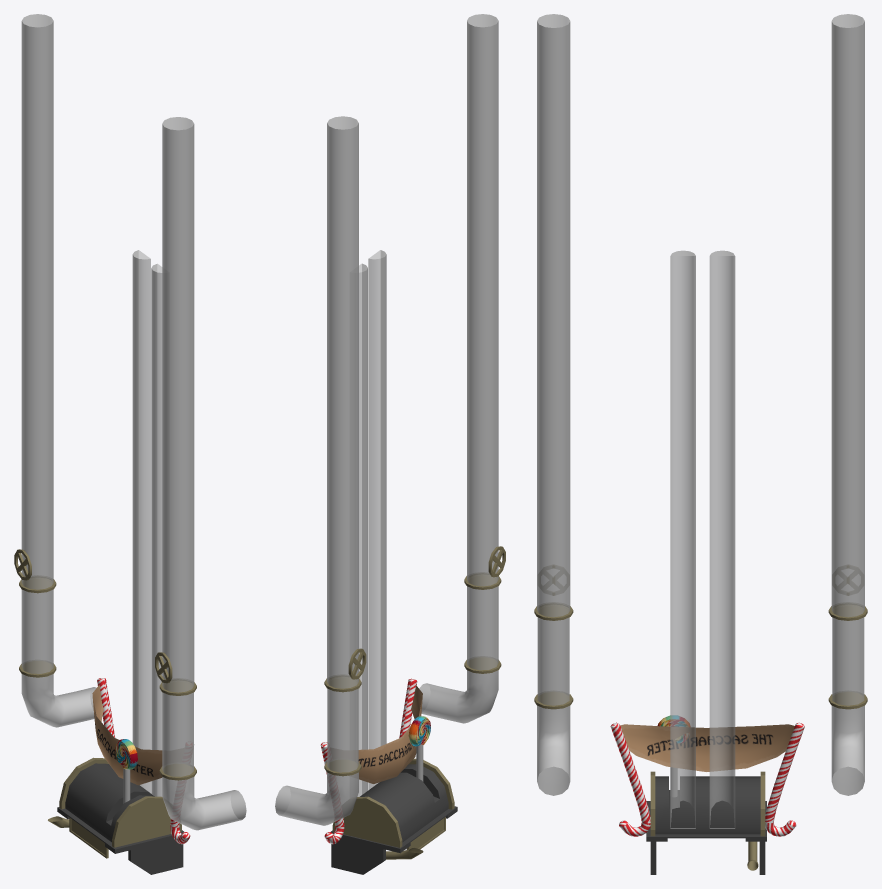
The model's file is P2PStation01.fbx.
3 views of the same model, side by side, from view 1: azimuth 30°, elevation 25°; view 2: azimuth 150°, elevation 25°; view 3: azimuth 270°, elevation 25° (orthographic). The views are drawn at different scales.
Parts seen in each view (by area): view 1: CandyTubing_Top (×2), _LeftTube, CandyTubing_Bot (×2), _RightTube, CandyTubing_Tube (×2), _CenterCyl, _RightBar, _Banner, _SupportUnder1, _MiddleSlab, _Sign, _LollipopTop (+2 smaller); view 2: CandyTubing_Top (×2), _RightTube, CandyTubing_Bot (×2), CandyTubing_Tube (×2), _LeftTube, _CenterCyl, _Banner, _LeftBar, _SupportUnder, _MiddleSlab, _LollipopTop, _CandyCane1 (+1 smaller); view 3: CandyTubing_Top (×2), _LeftTube, _RightTube, CandyTubing_Bot (×2), _Banner, _CenterCyl, CandyTubing_Tube (×2), _CandyCane1, _CandyCane, _MiddleSlab.
Part boxes in pixels (x1,y1,x2,y2): CandyTubing_Top (×2): (19, 14, 196, 695); _LeftTube: (132, 250, 150, 793); CandyTubing_Bot (×2): (19, 660, 246, 830); _RightTube: (151, 263, 162, 796); CandyTubing_Tube (×2): (21, 589, 193, 776); _CenterCyl: (65, 763, 154, 842); _RightBar: (112, 796, 181, 847); _Banner: (92, 685, 162, 785); _SupportUnder1: (128, 839, 183, 874); _MiddleSlab: (57, 807, 183, 853); _Sign: (69, 817, 108, 858); _LollipopTop: (115, 739, 137, 769); CandyTubing_Top (×2): (324, 14, 501, 692); _RightTube: (368, 250, 386, 789); CandyTubing_Bot (×2): (275, 657, 501, 825); CandyTubing_Tube (×2): (327, 586, 498, 772); _LeftTube: (357, 263, 367, 796); _CenterCyl: (360, 764, 448, 842); _Banner: (358, 685, 422, 783); _LeftBar: (332, 796, 402, 847); _SupportUnder: (331, 839, 385, 874); _MiddleSlab: (331, 806, 457, 853); _LollipopTop: (408, 716, 430, 746); _CandyCane1: (399, 678, 417, 738); CandyTubing_Top (×2): (534, 14, 867, 620); _LeftTube: (709, 250, 735, 828); _RightTube: (670, 250, 695, 828); CandyTubing_Bot (×2): (534, 691, 867, 795); _Banner: (620, 724, 794, 771); _CenterCyl: (655, 776, 760, 834); CandyTubing_Tube (×2): (537, 617, 864, 705); _CandyCane1: (610, 722, 650, 836); _CandyCane: (765, 722, 804, 836); _MiddleSlab: (646, 801, 766, 841).
Size of the model in its own units: 5.76 by 45.56 by 16.64.
Materials: 7 (3 with a texture image).
